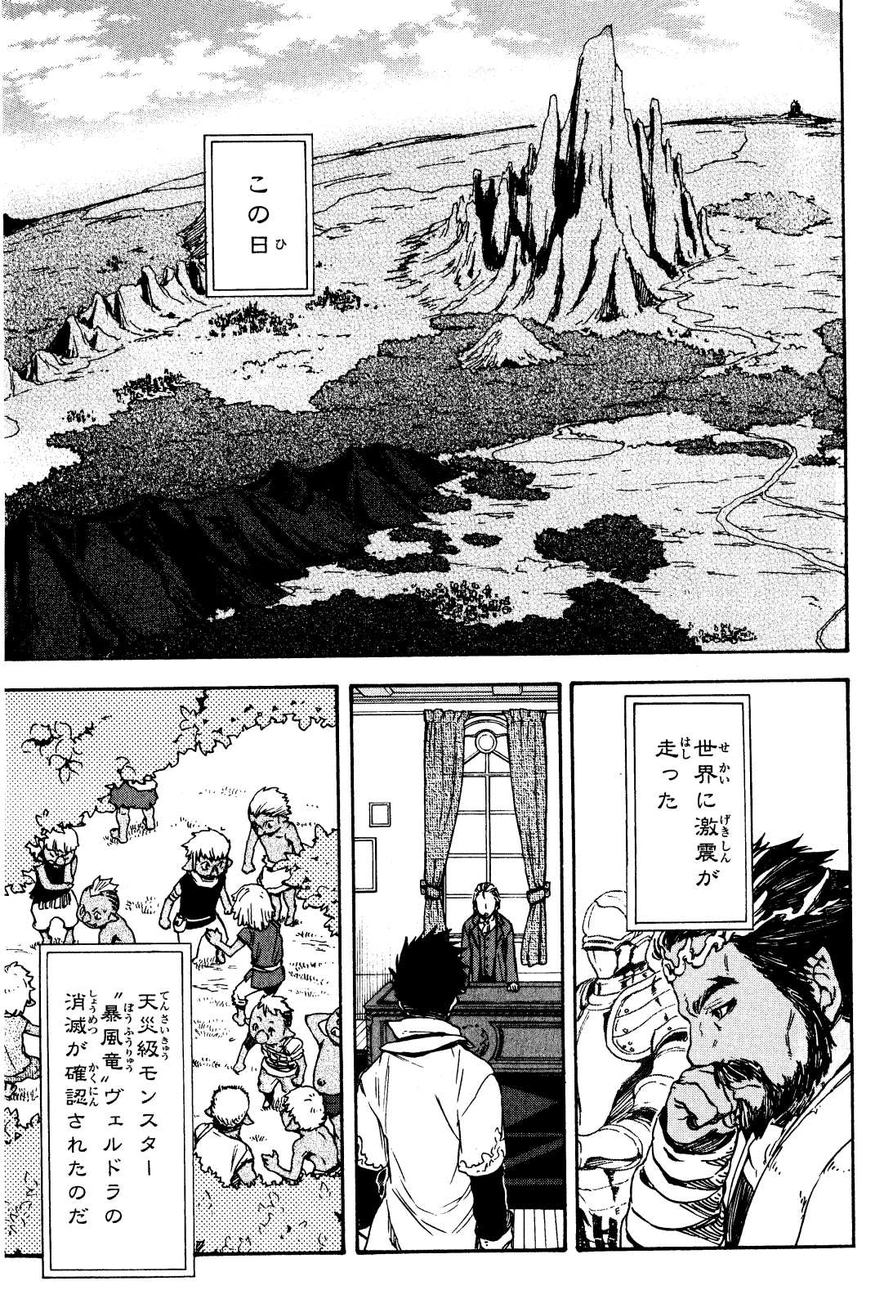bubbles: (33, 941, 203, 1282), (621, 688, 757, 942), (197, 128, 317, 301)
